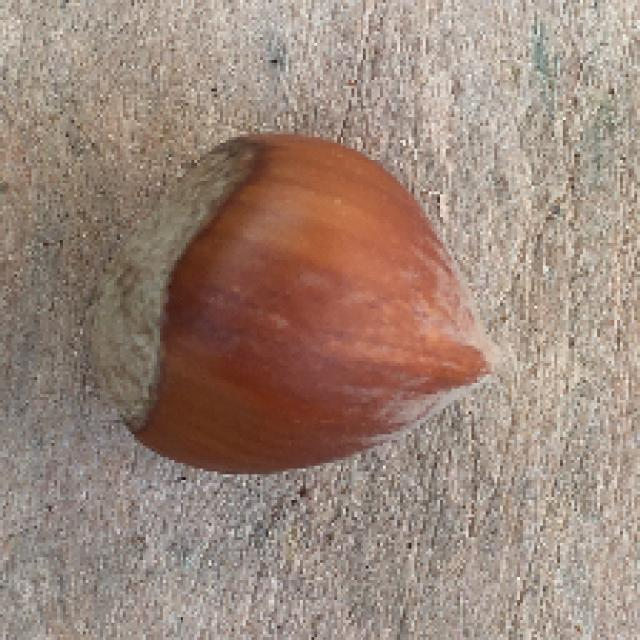qualityHazelnut: (83, 132, 493, 478)
